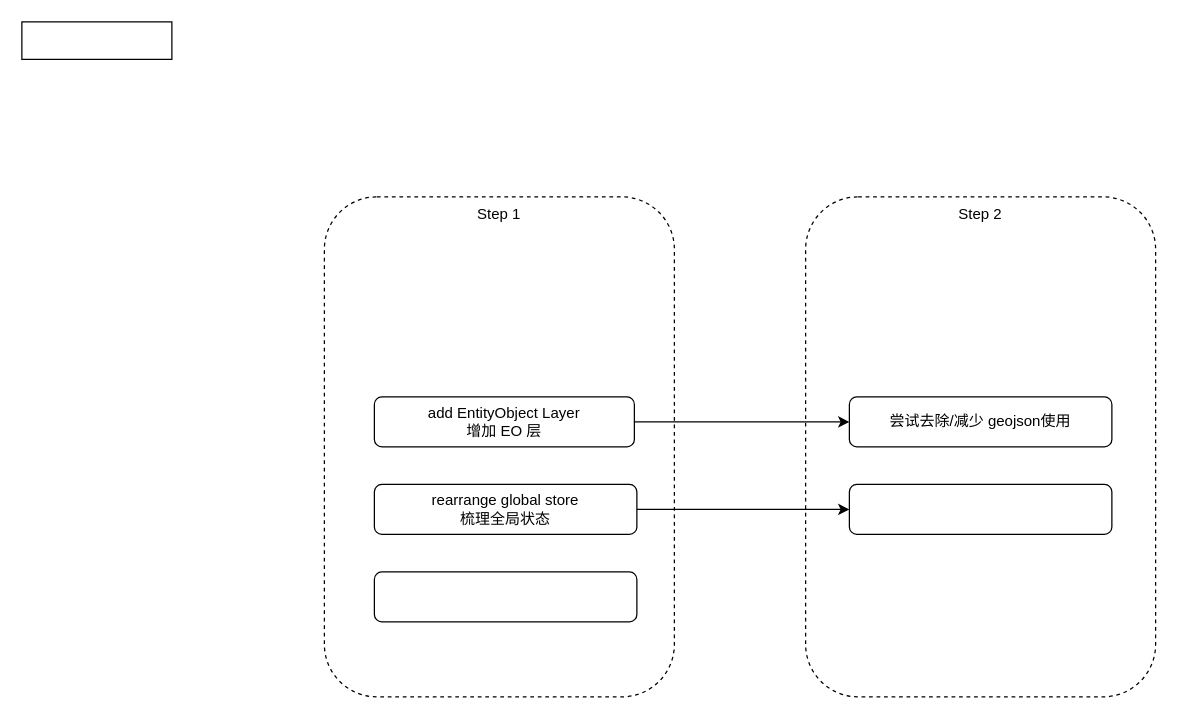
This 1178x719 diagram has some shape labels left out. The centre of each missing label's shape, as x and y in pixels:
"add document & test 补充单测和文档" goes at [505,596].
"Version.20220426" goes at [96,40].
"重新设计与改造 功能互斥与禁用逻辑" goes at [980,508].
